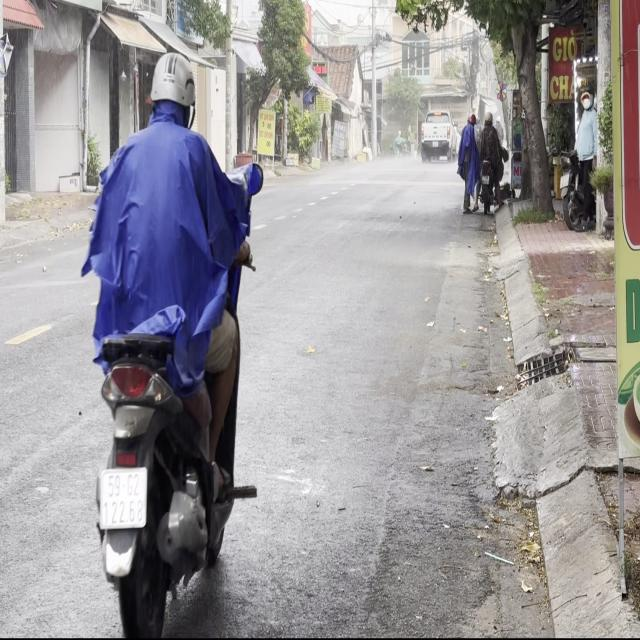helmet: (147, 50, 196, 126)
licenseplate: (78, 47, 258, 633)
nohelmet: (100, 467, 146, 527)
